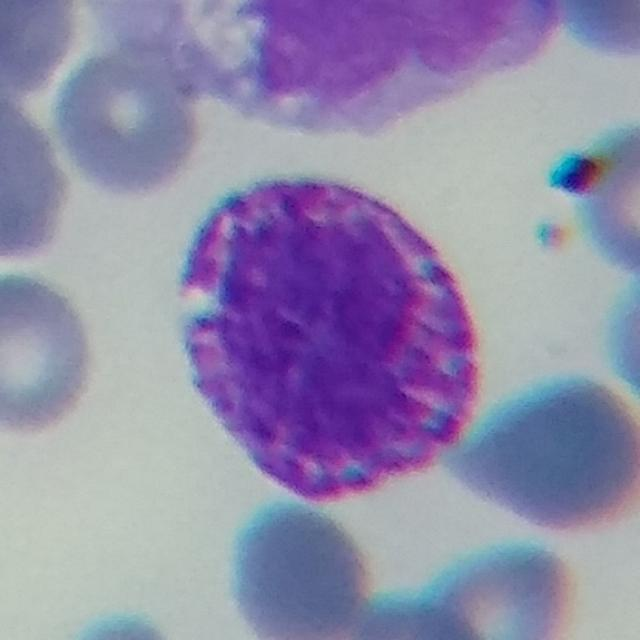Basophil: (151, 166, 491, 508)
Monocyte: (93, 0, 565, 142)
Platelets: (550, 149, 605, 196), (530, 216, 571, 259)
RBC: (442, 365, 640, 543), (46, 32, 214, 206), (219, 495, 382, 640), (404, 532, 589, 640), (0, 265, 104, 442), (0, 77, 80, 275), (553, 112, 640, 284), (0, 1, 88, 96), (329, 590, 487, 640), (536, 0, 640, 69), (601, 254, 640, 423), (60, 606, 184, 640)
